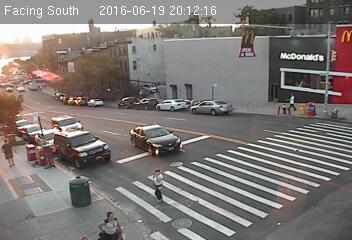neg: (154, 124, 179, 156), (200, 83, 223, 114), (312, 93, 334, 123), (64, 176, 84, 203), (83, 90, 99, 112)
pos: (142, 168, 170, 206), (284, 92, 301, 114)
